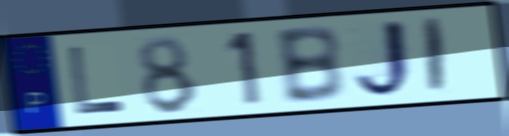1: (225, 28, 264, 109)
8: (136, 34, 201, 115)
B: (272, 23, 347, 106)
I: (424, 15, 447, 97)
J: (351, 17, 419, 101)
L: (66, 44, 127, 117)
